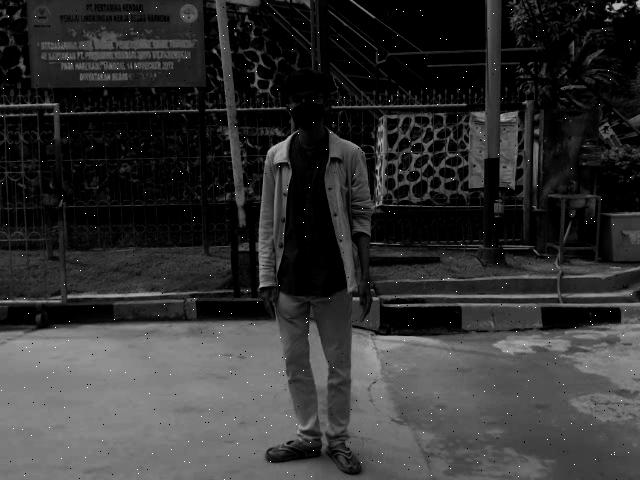mask: (287, 101, 329, 131)
